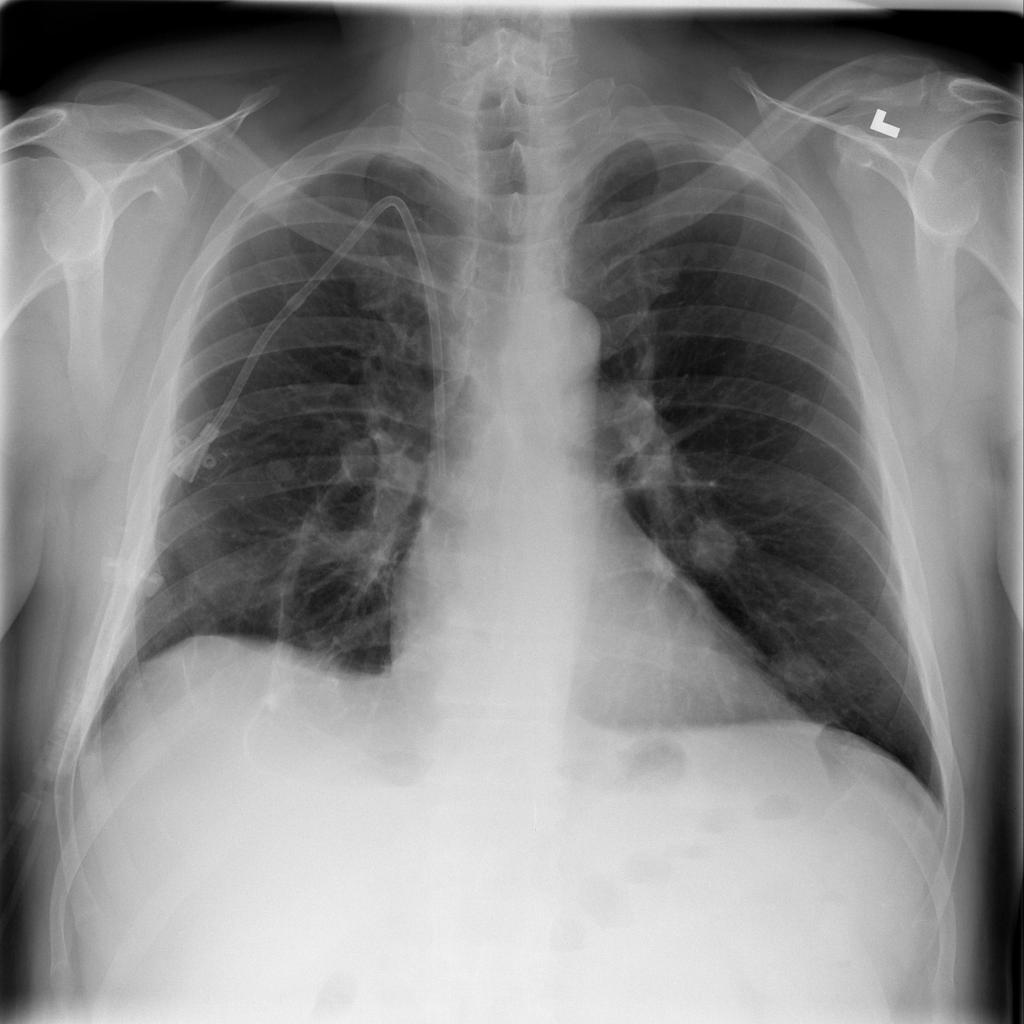nodule: (672, 502, 752, 585), (758, 637, 839, 706), (774, 372, 825, 423), (255, 446, 306, 496), (129, 555, 180, 604)
